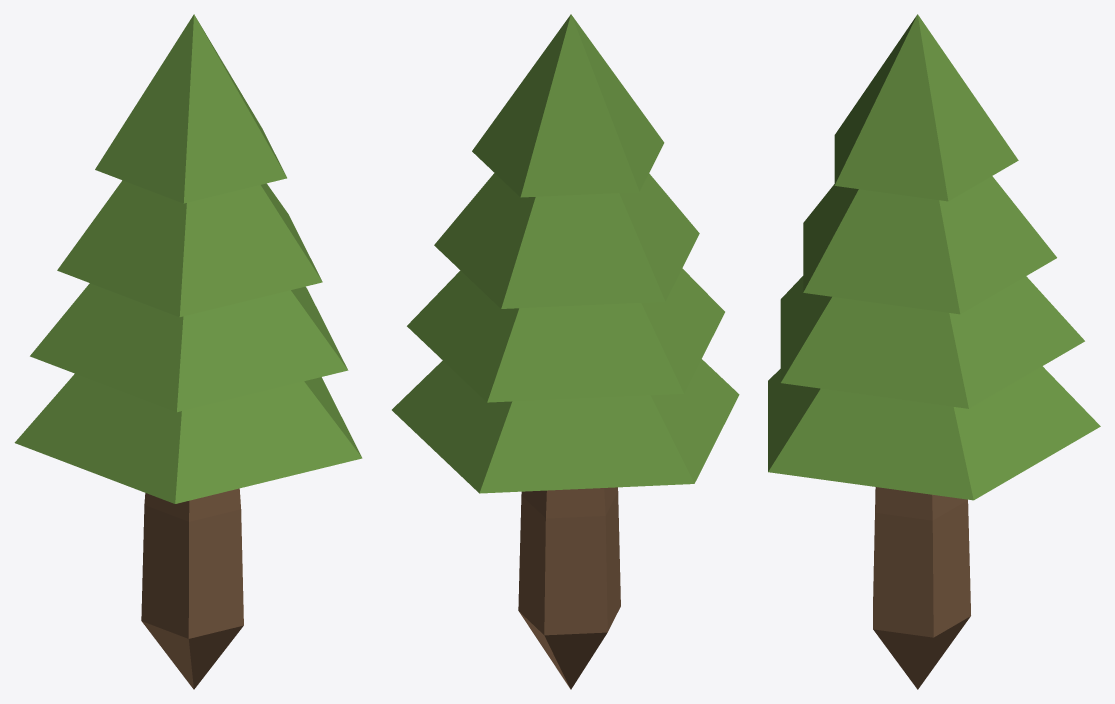
3 renders of one model, left to right at view 1: azimuth 30°, elevation 25°; view 2: azimuth 150°, elevation 25°; view 3: azimuth 270°, elevation 25°, orthographic.
Visible parts, largest first — view 1: Cylinder; view 2: Cylinder; view 3: Cylinder.
Part boxes in pixels (x1,y1,x2,y2): Cylinder: (14, 14, 362, 689); Cylinder: (392, 14, 739, 689); Cylinder: (768, 14, 1100, 689).
Size of the model in its own units: 1.76 by 1.67 by 3.74.
